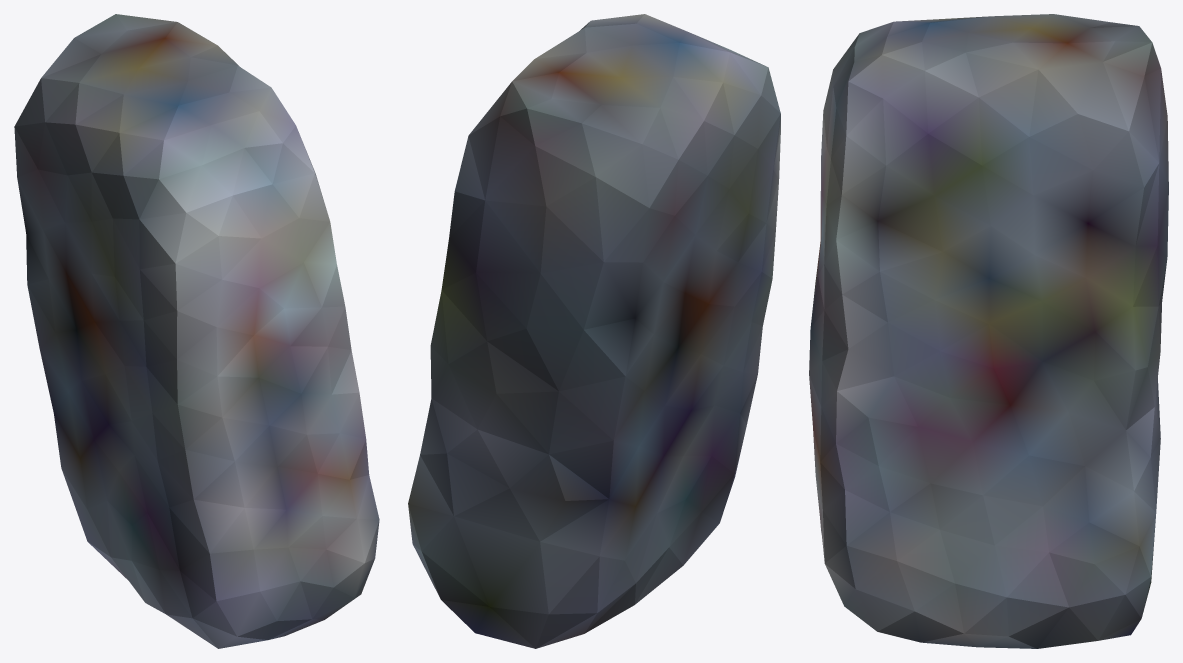
Rendered from pauli-suitcase.dae.
3 views of the same model, side by side, from view 1: azimuth 30°, elevation 25°; view 2: azimuth 150°, elevation 25°; view 3: azimuth 270°, elevation 25° (orthographic). The views are drawn at different scales.
Visible parts, largest first — view 1: node; view 2: node; view 3: node.
Boxes of the visible parts, left/top/right/bottom form: node: left=14, top=14, right=379, bottom=648; node: left=408, top=14, right=780, bottom=648; node: left=809, top=14, right=1168, bottom=648.
Bounding box in the file's own units: 0.1491 × 0.3261 × 0.1842.
